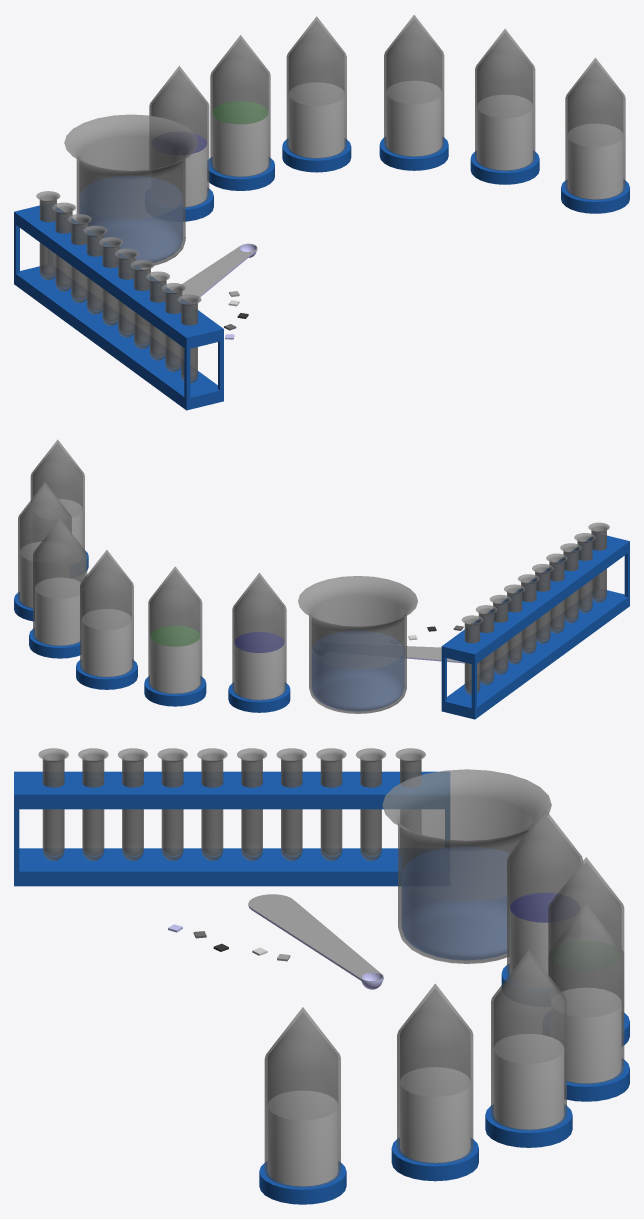
Rendered from Apparatus.fbx.
The picture shows the model from 3 angles, top to bottom: view 1: azimuth 30°, elevation 25°; view 2: azimuth 150°, elevation 25°; view 3: azimuth 270°, elevation 25°; orthographic projection. The views are drawn at different scales.
Parts seen in each view (by area): view 1: Component_7_1, Component_2_1, Component_3_1, Group2, Group3, Component_5_1, Component_1_4, Component_1_1, Component_1_6, Component_1_8, Component_1_2, Component_1_5 (+4 smaller); view 2: Component_7_1, Component_2_1, Component_3_1, Group2, Group3, Component_1_4, Component_1_2, Component_1_5, Component_1_3, Component_1_7, Component_1_8, Component_1_9 (+4 smaller); view 3: Component_7_1, Component_3_1, Component_2_1, Group3, Group2, Component_5_1, Component_1_9, Component_1_3, Component_1_5, Component_1_10, Component_1_8, Component_1_6 (+4 smaller).
Boxes of the visible parts, x1,y1,x2,y2 form: Component_7_1: (149, 15, 448, 221); Component_2_1: (64, 114, 198, 267); Component_3_1: (14, 205, 223, 410); Group2: (470, 28, 539, 184); Group3: (561, 57, 629, 213); Component_5_1: (172, 243, 257, 303); Component_1_4: (83, 225, 107, 314); Component_1_1: (36, 191, 60, 280); Component_1_6: (146, 271, 169, 360); Component_1_8: (130, 260, 154, 348); Component_1_2: (52, 202, 75, 291); Component_1_5: (114, 248, 138, 337); Component_7_1: (29, 518, 290, 712); Component_2_1: (298, 576, 417, 713); Component_3_1: (441, 535, 629, 719); Group2: (14, 482, 71, 621); Group3: (30, 439, 88, 571); Component_1_4: (504, 584, 525, 664); Component_1_2: (475, 605, 497, 684); Component_1_5: (532, 564, 553, 643); Component_1_3: (489, 594, 511, 674); Component_1_7: (518, 574, 539, 653); Component_1_8: (546, 553, 567, 633); Component_1_9: (588, 522, 609, 602); Component_7_1: (485, 809, 629, 1147); Component_3_1: (14, 771, 449, 886); Component_2_1: (382, 769, 551, 963); Group3: (259, 1007, 346, 1204); Group2: (391, 983, 478, 1181); Component_5_1: (248, 894, 383, 989); Component_1_9: (38, 748, 68, 860); Component_1_3: (316, 748, 346, 860); Component_1_5: (197, 748, 227, 860); Component_1_10: (78, 748, 108, 860); Component_1_8: (157, 748, 187, 860); Component_1_6: (118, 748, 148, 860).
Bounding box in the file's own units: 7404 × 1816 × 5645.
